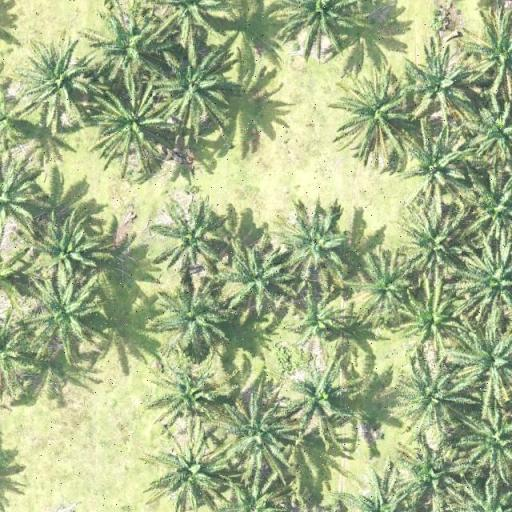Ganoderma: (298, 300, 336, 336)
